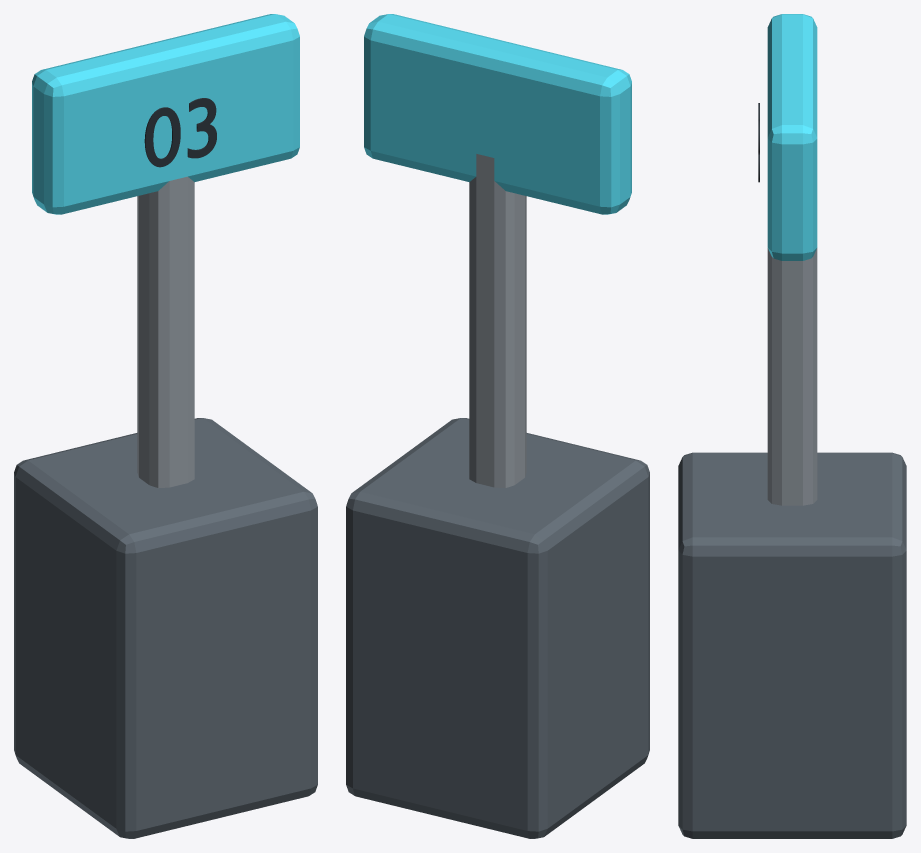
The model's file is 5_Vent.fbx.
The picture shows the model from 3 angles, left to right: view 1: azimuth 30°, elevation 25°; view 2: azimuth 150°, elevation 25°; view 3: azimuth 270°, elevation 25°; orthographic projection.
Visible parts, largest first — view 1: Body, Rotor; view 2: Body, Rotor; view 3: Body, Rotor.
Part boxes in pixels (left/top/right/bottom): Body: left=14, top=176, right=317, bottom=838; Rotor: left=32, top=14, right=299, bottom=214; Body: left=346, top=154, right=649, bottom=838; Rotor: left=364, top=14, right=631, bottom=214; Body: left=678, top=248, right=906, bottom=838; Rotor: left=758, top=14, right=817, bottom=260.
Size of the model in its own units: 0.7 by 1.93 by 0.55.
